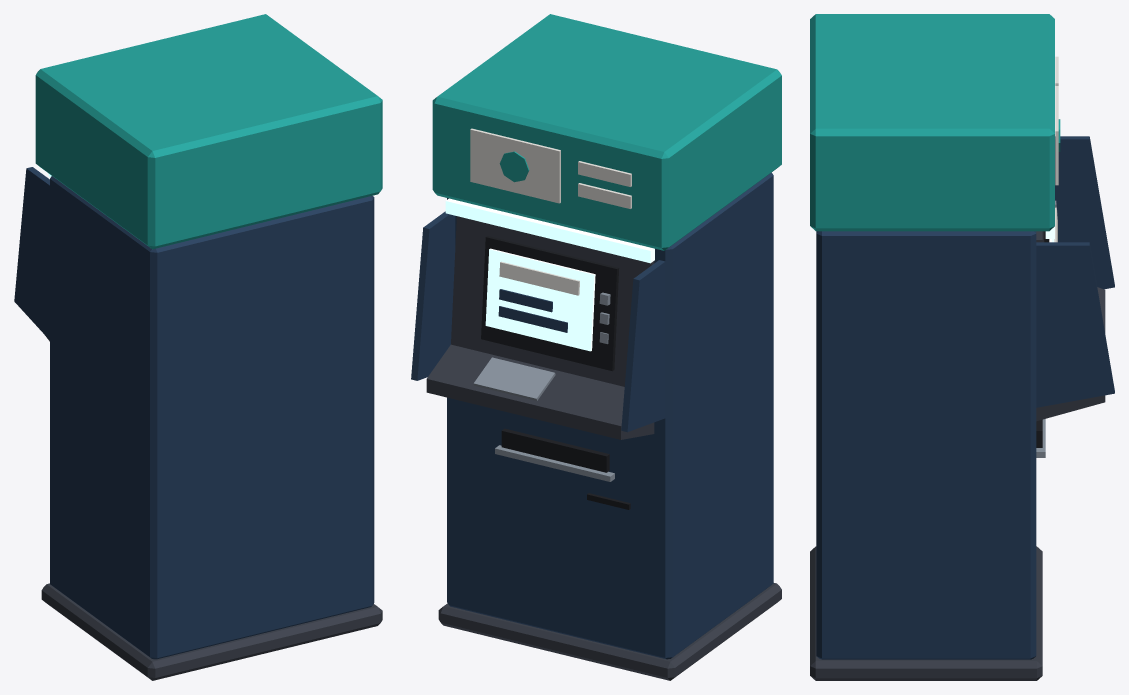
The model's file is atm.glb.
3 views of the same model, side by side, from view 1: azimuth 30°, elevation 25°; view 2: azimuth 150°, elevation 25°; view 3: azimuth 270°, elevation 25° (orthographic). The views are drawn at different scales.
Visible parts, largest first — view 1: atm; view 2: atm; view 3: atm.
Boxes of the visible parts, x1=… form: atm: x1=14, y1=14, x2=382, y2=680; atm: x1=411, y1=14, x2=781, y2=680; atm: x1=810, y1=14, x2=1114, y2=680.
Size of the model in its own units: 0.9 by 1.94 by 0.97.
